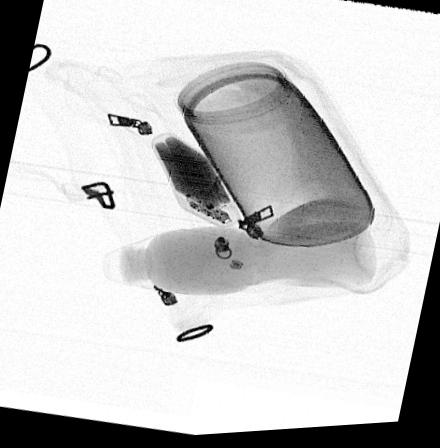Powerbank: (148, 132, 238, 229)
